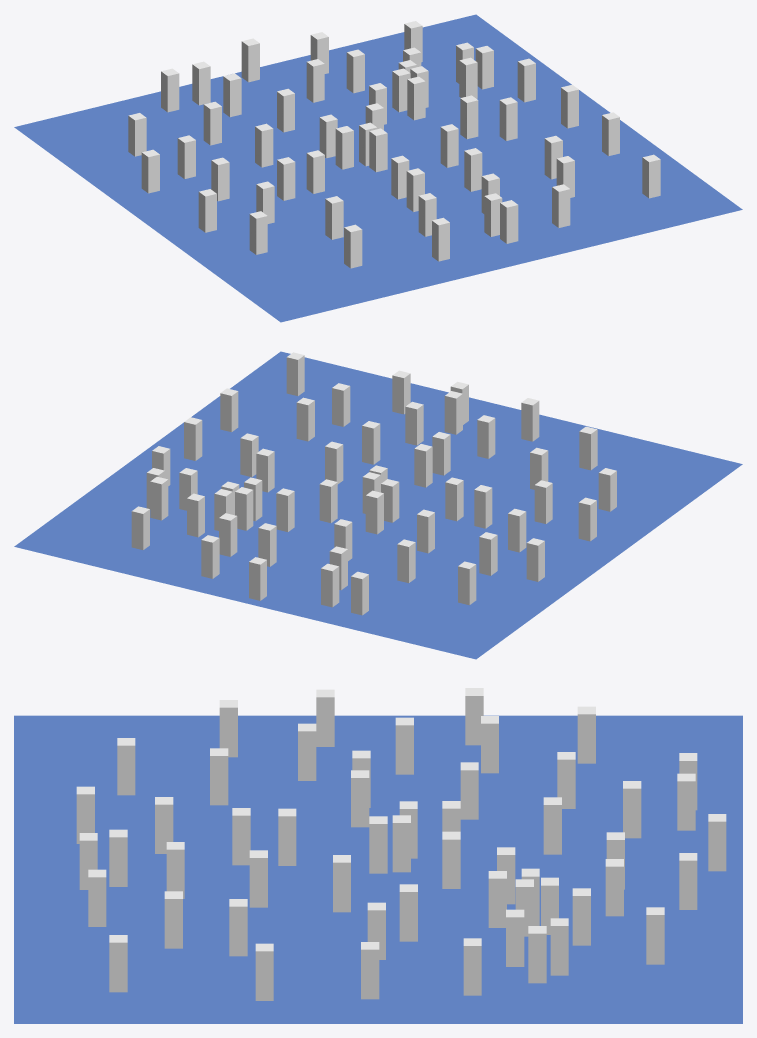
The model's file is orthographic.glb.
3 renders of one model, top to bottom at view 1: azimuth 30°, elevation 25°; view 2: azimuth 150°, elevation 25°; view 3: azimuth 270°, elevation 25°, orthographic. The views are drawn at different scales.
Parts seen in each view (by area): view 1: Plane, Cube, Cube.021, Cube.039, Cube.006, Cube.007, Cube.015, Cube.020, Cube.026, Cube.032, Cube.034, Cube.035 (+35 smaller); view 2: Plane, Cube.002, Cube.006, Cube.001, Cube.003, Cube.005, Cube.016, Cube.018, Cube.019, Cube.022, Cube.023, Cube.033 (+36 smaller); view 3: Plane, Cube, Cube.003, Cube.007, Cube.010, Cube.011, Cube.014, Cube.025, Cube.028, Cube.035, Cube.039, Cube.044 (+39 smaller).
Part boxes in pixels (x1,y1,x2,y2): Plane: (14, 14, 742, 322); Cube: (369, 128, 387, 172); Cube.021: (325, 196, 343, 239); Cube.039: (198, 189, 216, 232); Cube.006: (306, 150, 324, 193); Cube.007: (255, 123, 273, 167); Cube.015: (223, 73, 241, 117); Cube.020: (277, 157, 295, 200); Cube.026: (499, 97, 517, 140); Cube.032: (346, 49, 364, 93); Cube.034: (241, 38, 259, 82); Cube.035: (192, 61, 210, 105); Plane: (14, 351, 742, 659); Cube.002: (276, 488, 294, 531); Cube.006: (445, 477, 463, 521); Cube.001: (365, 490, 383, 534); Cube.003: (319, 479, 337, 522); Cube.005: (414, 444, 432, 487); Cube.016: (397, 539, 415, 583); Cube.018: (508, 508, 526, 552); Cube.019: (534, 480, 552, 523); Cube.022: (432, 432, 450, 475); Cube.023: (477, 415, 495, 458); Cube.033: (201, 535, 219, 578); Plane: (14, 715, 742, 1023); Cube: (369, 816, 387, 873); Cube.003: (442, 831, 460, 888); Cube.007: (460, 762, 478, 819); Cube.010: (249, 850, 267, 907); Cube.011: (399, 884, 417, 941); Cube.014: (543, 797, 561, 854); Cube.025: (229, 899, 247, 956); Cube.028: (572, 888, 590, 945); Cube.035: (677, 773, 695, 830); Cube.039: (316, 689, 334, 746); Cube.044: (109, 829, 127, 886).
Size of the model in its own units: 40 by 3 by 40.
Materials: 2 (1 with a texture image).
